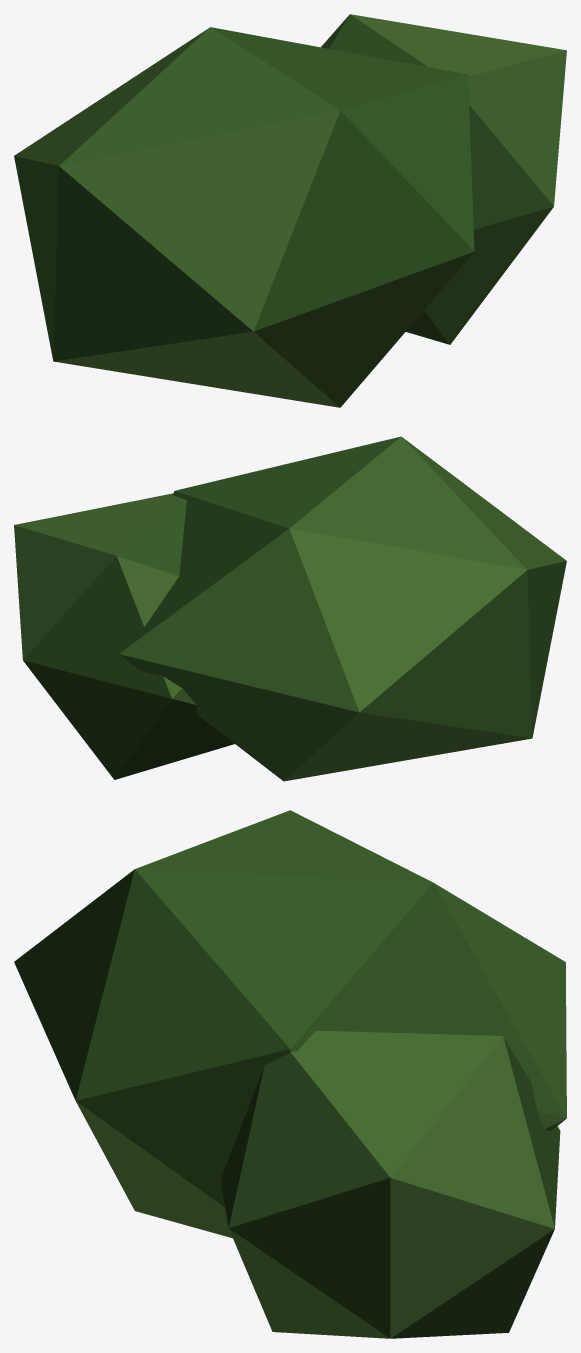
Rendered from fr_bush_a_lod1.glb.
3 renders of one model, top to bottom at view 1: azimuth 30°, elevation 25°; view 2: azimuth 150°, elevation 25°; view 3: azimuth 270°, elevation 25°, orthographic. The views are drawn at different scales.
Parts seen in each view (by area): view 1: fr_bush_a_lod1; view 2: fr_bush_a_lod1; view 3: fr_bush_a_lod1.
Boxes of the visible parts, x1=… form: fr_bush_a_lod1: x1=14, y1=14, x2=566, y2=407; fr_bush_a_lod1: x1=14, y1=436, x2=566, y2=781; fr_bush_a_lod1: x1=14, y1=810, x2=566, y2=1338.
Size of the model in its own units: 2.95 by 1.62 by 2.21.
